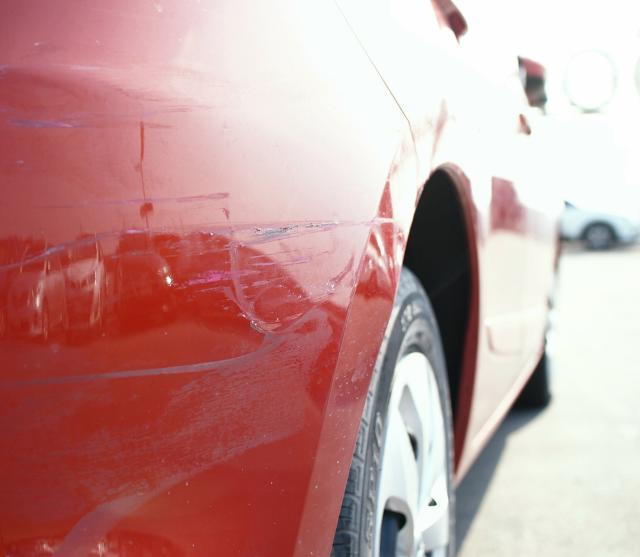scratch: (0, 57, 402, 557)
